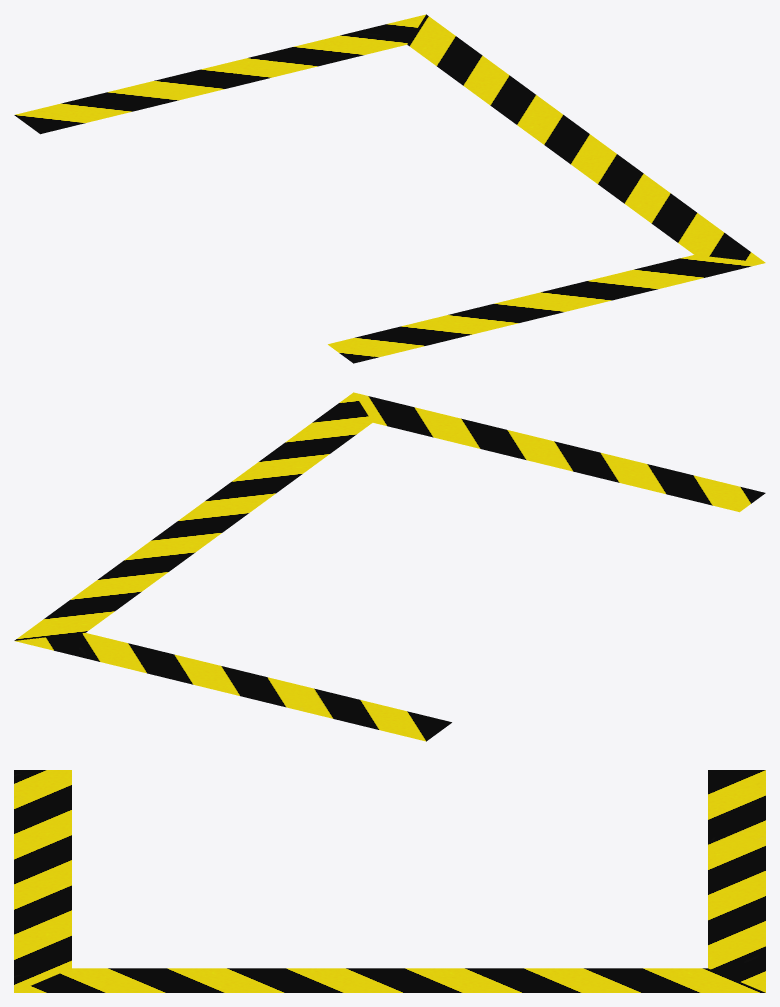
3 views of the same model, one above another, from view 1: azimuth 30°, elevation 25°; view 2: azimuth 150°, elevation 25°; view 3: azimuth 270°, elevation 25° (orthographic). The views are drawn at different scales.
Parts seen in each view (by area): view 1: SM_标线002; view 2: SM_标线002; view 3: SM_标线002.
Part boxes in pixels (x1,y1,x2,y2): SM_标线002: (14, 14, 765, 363); SM_标线002: (14, 392, 765, 741); SM_标线002: (14, 770, 765, 992).
Size of the model in its own units: 0.42 by 2.62e-08 by 0.599.
